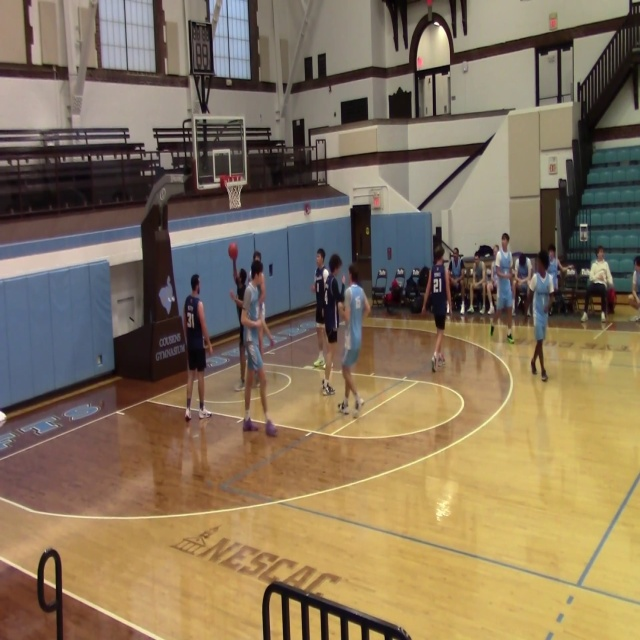Basketball: (228, 242, 238, 260), (627, 294, 639, 309), (0, 411, 6, 422)
